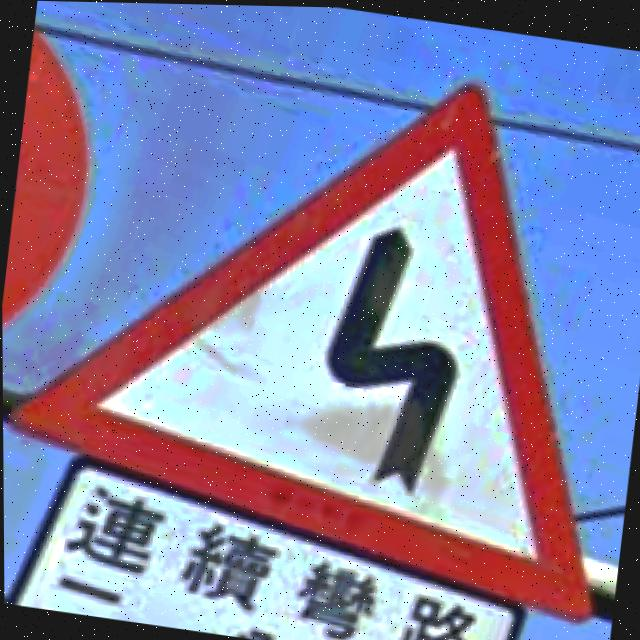doublebendleft: (6, 82, 593, 619)
